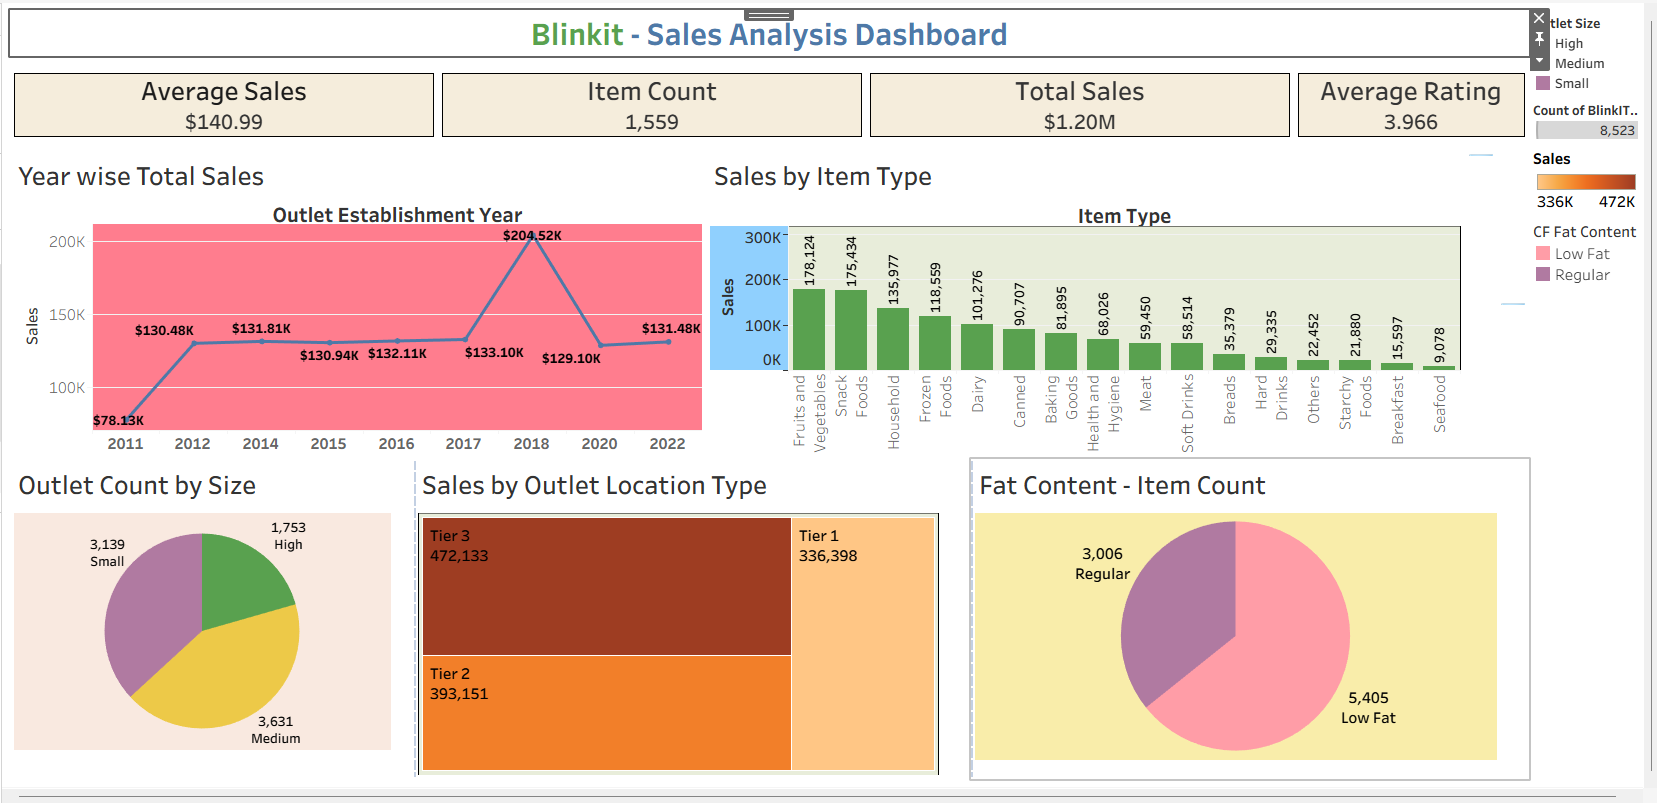

This screenshot's page, from the dashboard's own definition file:
{"tool":"tableau","page":{"name":"Blinkit - Sales Analysis Dashboard","canvas":[1000,1000],"units":"permille","ordinal":0},"visuals":[{"type":"text","box":[4.9,10.2,920.6,58.6]},{"type":"legend","title":"Outlet Count by Size","param":"[federated.0k33k6o0hn5hlu1g9cjog0rmidhd].[none:Outlet Size:nk]","box":[925.5,10.2,69.7,110.8]},{"type":"worksheet","title":"Average Rating","mark":"Automatic","box":[782.9,85.3,142.6,103.2]},{"type":"worksheet","title":"Average Sales","mark":"Automatic","box":[4.9,85.4,259.4,103.2]},{"type":"worksheet","title":"Item Count","mark":"Automatic","box":[264.2,85.4,259.4,103.2]},{"type":"worksheet","title":"Total Sales","mark":"Automatic","box":[523.6,85.4,259.4,103.2]},{"type":"legend","title":"Outlet Count by Size","param":"[federated.0k33k6o0hn5hlu1g9cjog0rmidhd].[__tableau_internal_object_id__].[cnt:B","box":[925.5,121,69.7,59.9]},{"type":"legend","title":"Sales by Outlet Location Type","param":"[federated.0k33k6o0hn5hlu1g9cjog0rmidhd].[sum:Sales:qk]","box":[925.5,180.9,69.7,93]},{"type":"worksheet","title":"Year wise Total Sales","mark":"Automatic","rows":["Sales"],"cols":["Outlet Establishment Year"],"box":[4.9,188.5,421.8,393.6]},{"type":"worksheet","title":"Sales by Item Type","mark":"Automatic","rows":["Sales"],"cols":["Item Type"],"box":[426.7,188.5,460,393.6]},{"type":"image","param":"Image/Background1.png","box":[886.7,188.5,19.4,393.6]},{"type":"image","param":"Image/Background1.png","box":[906.1,188.5,19.4,393.6]},{"type":"legend","title":"Fat Content - Item Count","param":"[federated.0k33k6o0hn5hlu1g9cjog0rmidhd].[none:Calculation_1187542986233180165:n","box":[925.5,273.9,69.7,91.7]},{"type":"worksheet","title":"Outlet Count by Size","mark":"Pie","box":[4.9,582.1,244.8,407.7]},{"type":"worksheet","title":"Sales by Outlet Location Type","mark":"Automatic","box":[249.7,582.1,337.9,407.7]},{"type":"worksheet","title":"Fat Content - Item Count","mark":"Pie","box":[587.6,582.1,337.9,407.7]}]}

Visuals, with their boxes on the dashboard's canvas, which has no fixed pixel size, in thousandths of its width and height (x1, y1, x2, y2). These are canvas units, not pixel positions in the 1657x803 screenshot, which may show the page scaled, cropped or inside an application window:
text: select_region(5, 10, 926, 69)
"Outlet Count by Size" legend: select_region(926, 10, 995, 121)
"Average Rating" worksheet: select_region(783, 85, 926, 188)
"Average Sales" worksheet: select_region(5, 85, 264, 189)
"Item Count" worksheet: select_region(264, 85, 524, 189)
"Total Sales" worksheet: select_region(524, 85, 783, 189)
"Outlet Count by Size" legend: select_region(926, 121, 995, 181)
"Sales by Outlet Location Type" legend: select_region(926, 181, 995, 274)
"Year wise Total Sales" worksheet: select_region(5, 188, 427, 582)
"Sales by Item Type" worksheet: select_region(427, 188, 887, 582)
image: select_region(887, 188, 906, 582)
image: select_region(906, 188, 926, 582)
"Fat Content - Item Count" legend: select_region(926, 274, 995, 366)
"Outlet Count by Size" worksheet (Pie marks): select_region(5, 582, 250, 990)
"Sales by Outlet Location Type" worksheet: select_region(250, 582, 588, 990)
"Fat Content - Item Count" worksheet (Pie marks): select_region(588, 582, 926, 990)
